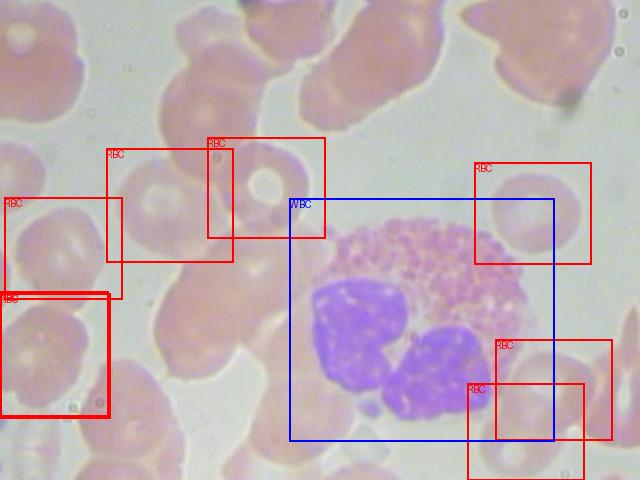RBC: (106, 148, 233, 262), (0, 293, 110, 418), (0, 291, 108, 416), (4, 197, 122, 299), (474, 162, 591, 264), (207, 137, 325, 238), (495, 339, 612, 440), (467, 383, 584, 480)
WBC: (289, 198, 554, 441)
